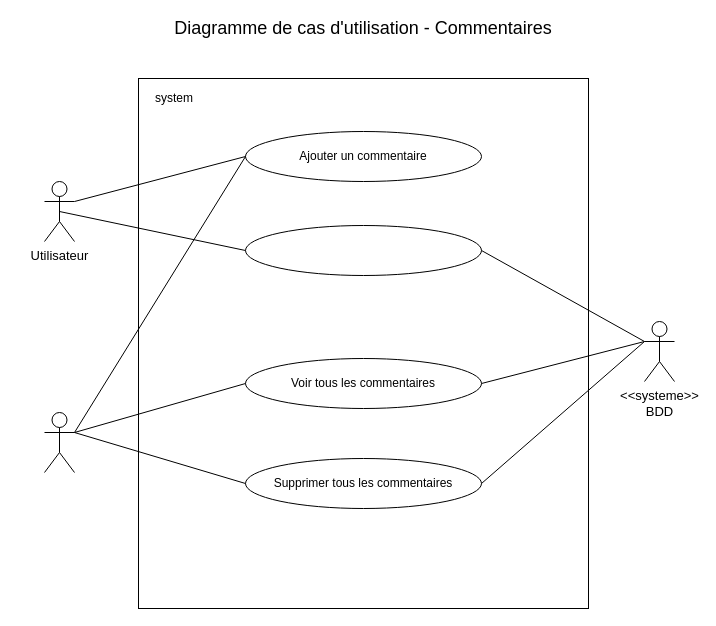
The diagram is 716 pixels wide and 626 high, and some of its shapes have lost their labels. Each missing label, with the box of its shape:
Administrateur: (44, 412, 74, 472)
Supprimer ce commentaire: (244, 224, 482, 276)
